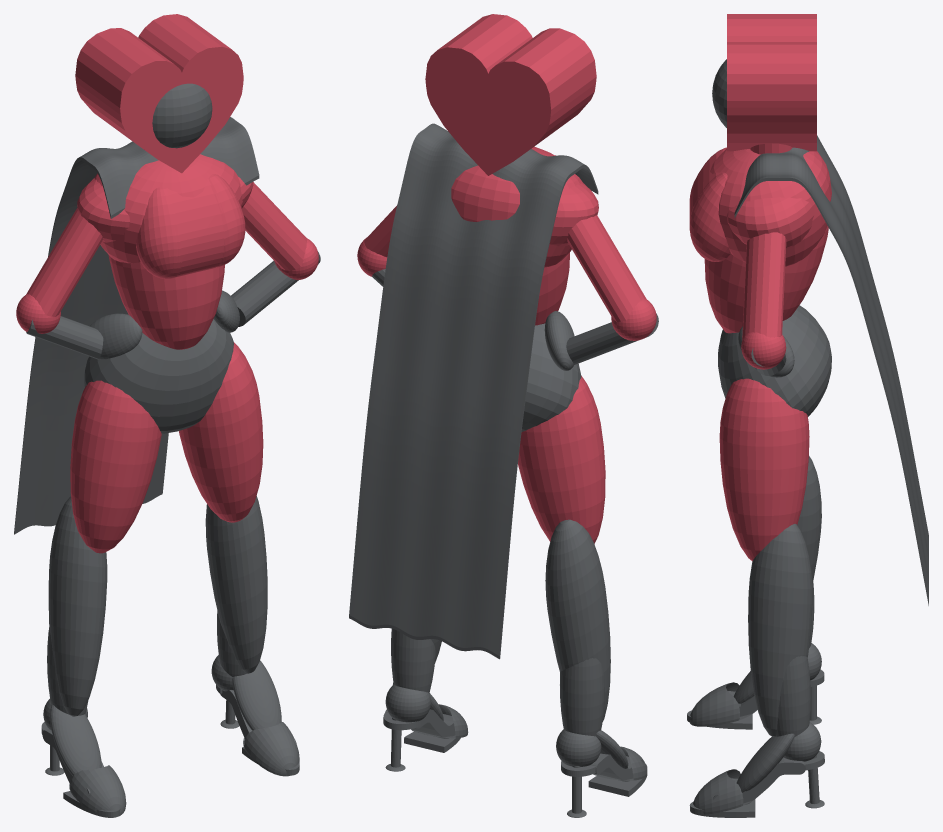
Rendered from JetsFemaleHero.glb.
The picture shows the model from 3 angles, left to right: view 1: azimuth 30°, elevation 25°; view 2: azimuth 150°, elevation 25°; view 3: azimuth 270°, elevation 25°; orthographic projection.
Parts seen in each view (by area): view 1: Mesh_Mesh_head_geo.001_lambert2SG.001; view 2: Mesh_Mesh_head_geo.001_lambert2SG.001; view 3: Mesh_Mesh_head_geo.001_lambert2SG.001.
Boxes of the visible parts, box(x1,y1,x2,y2) form: Mesh_Mesh_head_geo.001_lambert2SG.001: box(14, 14, 320, 817); Mesh_Mesh_head_geo.001_lambert2SG.001: box(349, 14, 658, 817); Mesh_Mesh_head_geo.001_lambert2SG.001: box(687, 14, 928, 817).
Bounding box in the file's own units: 45.31 × 108 × 32.29.
